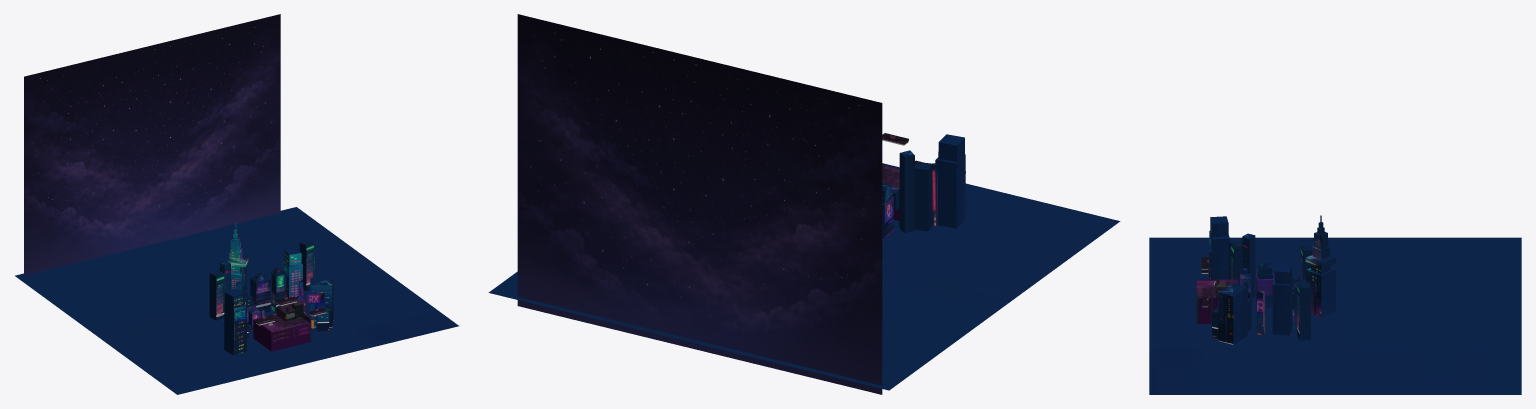
The model's file is NET.fbx.
3 views of the same model, side by side, from view 1: azimuth 30°, elevation 25°; view 2: azimuth 150°, elevation 25°; view 3: azimuth 270°, elevation 25° (orthographic). The views are drawn at different scales.
Parts seen in each view (by area): view 1: Plane, Plane.001, Cube, Net Glow, Cube.010, Cube.007, Cube.029, Cube.018, Cube.014, Cube.032, Cube.012; view 2: Plane, Plane.001, Net Glow, Cube.006, Cube.022, Cube.020; view 3: Plane.001, Cube.010, Cube.014, Cube.007, Net Glow, Cube.032, Cube, Cube.006, Cube.020, Cube.022, Cube.017.
Part boxes in pixels (bbox=[...]): Plane: bbox=[24, 14, 280, 275]; Plane.001: bbox=[15, 207, 458, 394]; Cube: bbox=[253, 312, 311, 351]; Net Glow: bbox=[224, 288, 247, 355]; Cube.010: bbox=[227, 223, 249, 291]; Cube.007: bbox=[284, 248, 302, 297]; Cube.029: bbox=[209, 270, 224, 320]; Cube.018: bbox=[250, 270, 270, 312]; Cube.014: bbox=[310, 277, 333, 327]; Cube.032: bbox=[299, 239, 314, 291]; Cube.012: bbox=[270, 268, 286, 312]; Plane: bbox=[517, 14, 882, 394]; Plane.001: bbox=[488, 163, 1120, 390]; Net Glow: bbox=[935, 134, 965, 228]; Cube.006: bbox=[899, 150, 914, 232]; Cube.022: bbox=[915, 162, 932, 231]; Cube.020: bbox=[882, 183, 893, 238]; Plane.001: bbox=[1149, 237, 1521, 394]; Cube.010: bbox=[1305, 215, 1336, 317]; Cube.014: bbox=[1218, 283, 1247, 344]; Cube.007: bbox=[1272, 265, 1292, 335]; Net Glow: bbox=[1208, 216, 1229, 279]; Cube.032: bbox=[1297, 282, 1310, 340]; Cube: bbox=[1196, 279, 1237, 323]; Cube.006: bbox=[1242, 233, 1255, 298]; Cube.020: bbox=[1256, 261, 1274, 307]; Cube.022: bbox=[1231, 241, 1242, 284]; Cube.017: bbox=[1257, 290, 1265, 335].
Size of the model in its own units: 122738 by 89318 by 122738.
31 materials, 21 textured.
